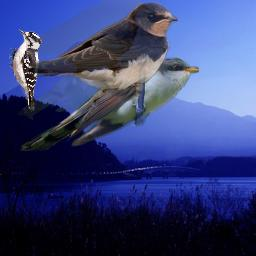Cuckoo: (18, 56, 199, 151)
Swallow: (26, 0, 178, 97)
Woodpecker: (9, 29, 42, 113)
